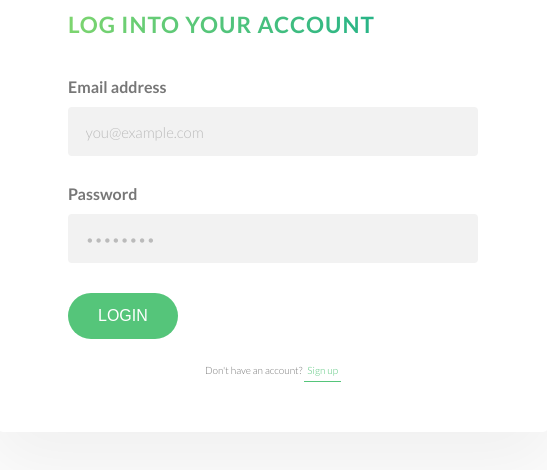
Test: Login › shows loading state during form submission
Type "test@example.com" into the field labelled "Email address" at [273, 132], box top-left (68, 107), bottom-right (478, 156)
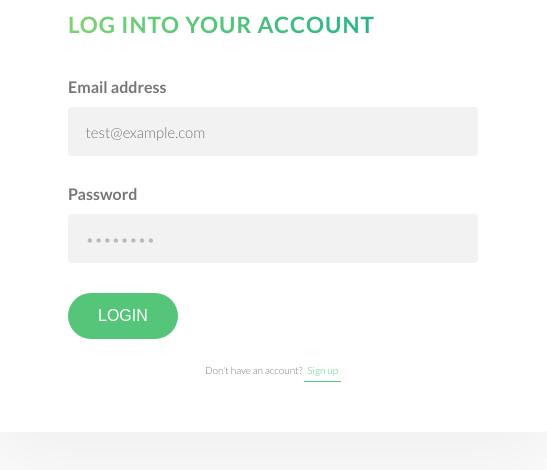
Type "password123" into the password field labelled "Password" at [273, 239], box top-left (68, 214), bottom-right (478, 263)
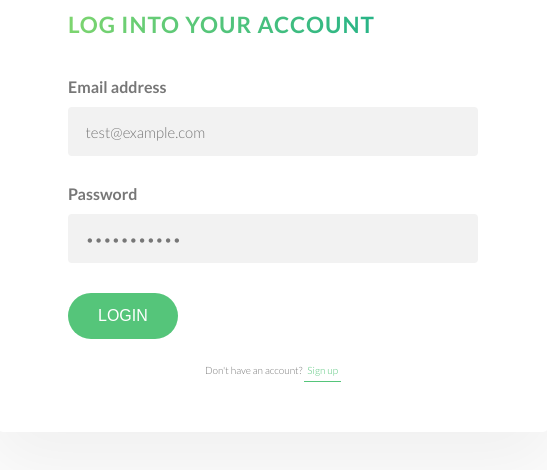
Click the button "Login" at [123, 316], box top-left (68, 293), bottom-right (178, 339)
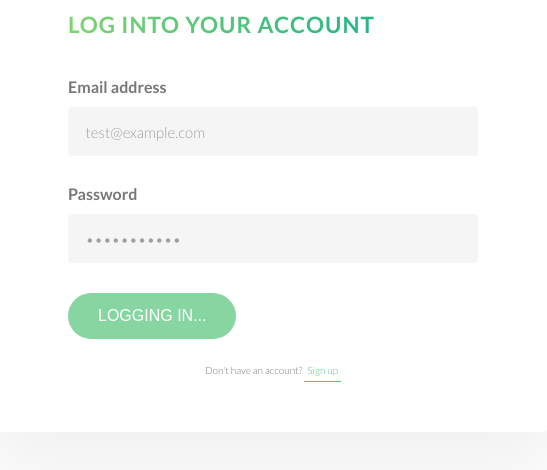
Now the button "Logging in..." is disabled, box top-left (68, 293), bottom-right (236, 339)
Now the field labelled "Email address" is disabled, box top-left (68, 107), bottom-right (478, 156)
Now the password field labelled "Password" is disabled, box top-left (68, 214), bottom-right (478, 263)
